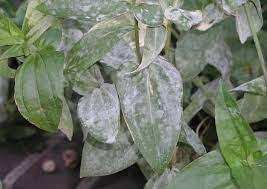powdery_mildew: (47, 6, 231, 160)
